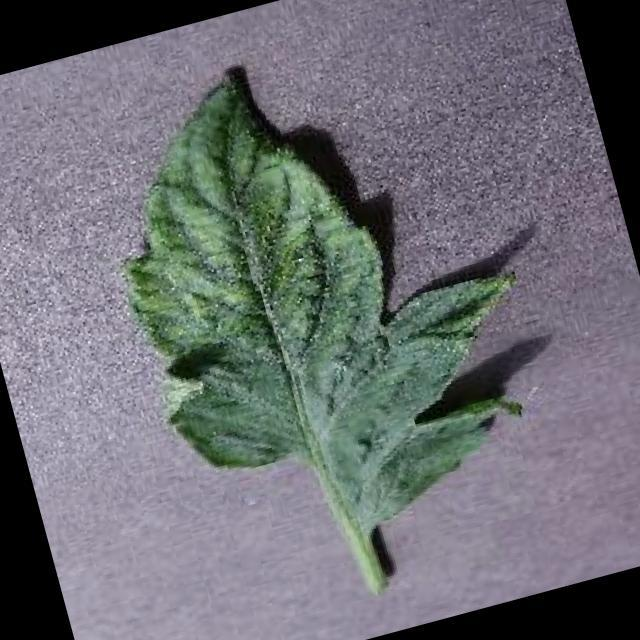Tomato mosaic virus leaf: (79, 1, 576, 574)
